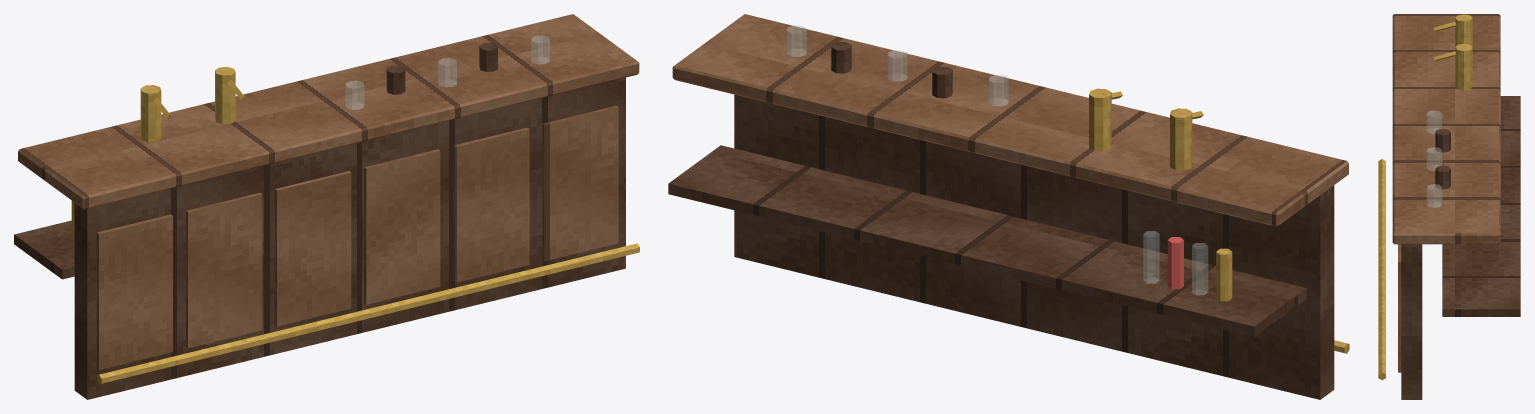
The model's file is bar_counter.glb.
The picture shows the model from 3 angles, left to right: view 1: azimuth 30°, elevation 25°; view 2: azimuth 150°, elevation 25°; view 3: azimuth 270°, elevation 25°; orthographic projection. The views are drawn at different scales.
Visible parts, largest first — view 1: body; view 2: body; view 3: body.
Boxes of the visible parts, x1=… form: body: x1=14, y1=14, x2=639, y2=399; body: x1=668, y1=14, x2=1349, y2=399; body: x1=1378, y1=14, x2=1520, y2=399.
Size of the model in its own units: 3 by 1.33 by 0.8167.
5 materials, 3 textured.
